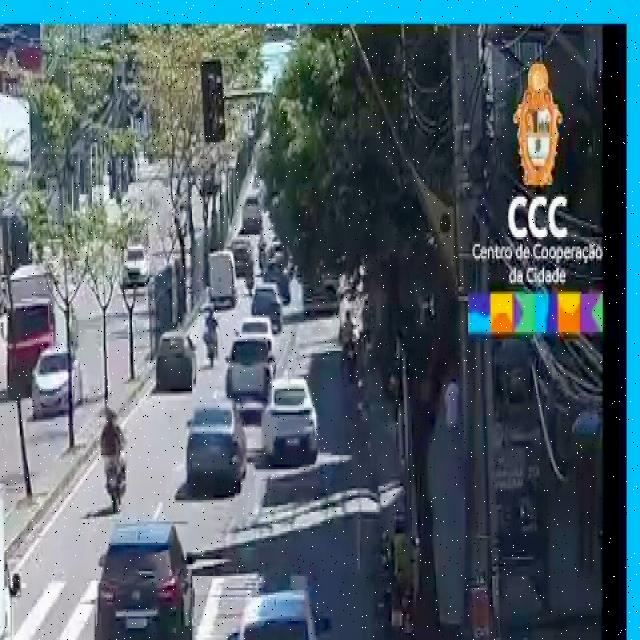biker: (98, 403, 136, 519)
car: (95, 526, 193, 640), (256, 378, 328, 473), (182, 400, 246, 496), (228, 588, 343, 640), (30, 348, 84, 420), (155, 328, 198, 398), (119, 239, 153, 291)
truck: (2, 264, 58, 396), (0, 479, 12, 640)
